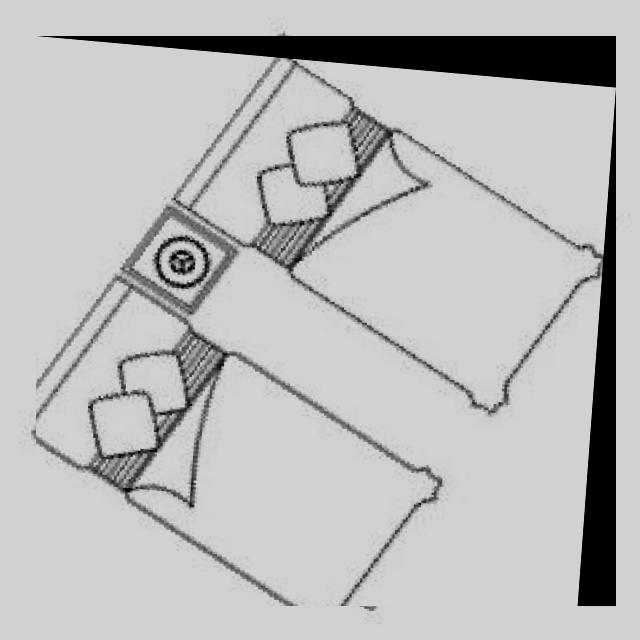bed: (36, 36, 616, 606)
